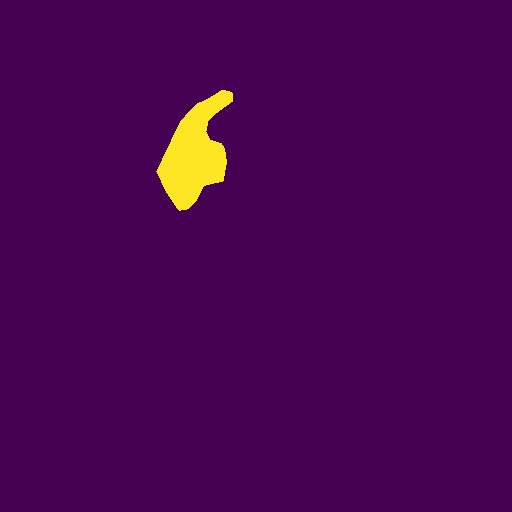Gliomia_tumour: (156, 90, 233, 211)
